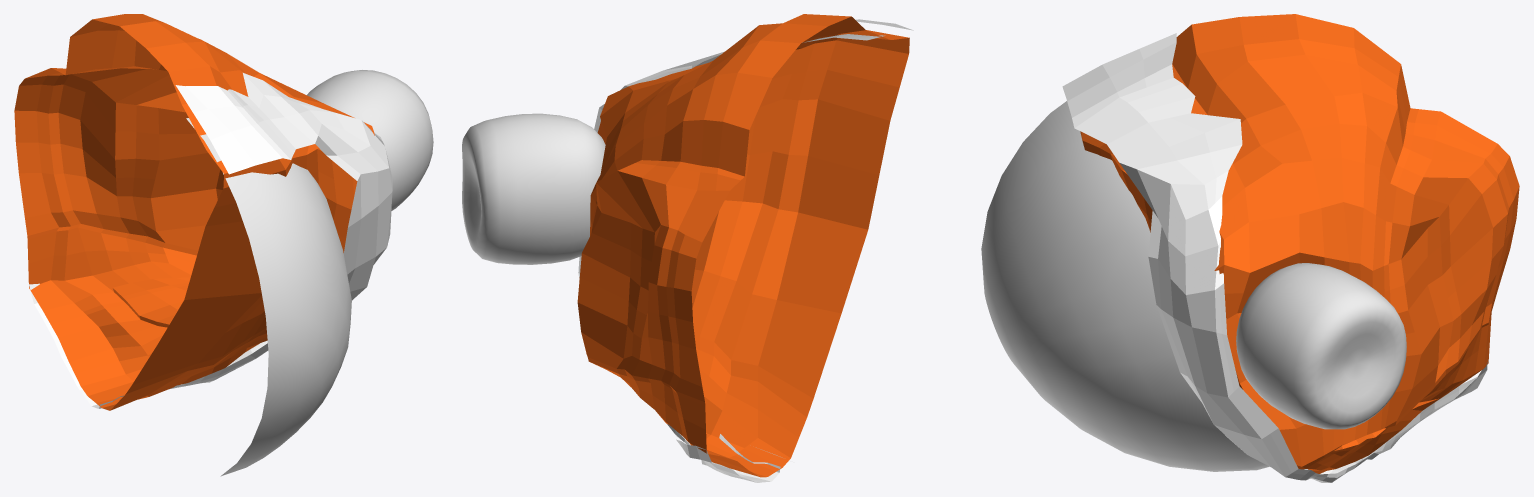
File: Robot.gltf
The picture shows the model from 3 angles, left to right: view 1: azimuth 30°, elevation 25°; view 2: azimuth 150°, elevation 25°; view 3: azimuth 270°, elevation 25°; orthographic projection. The views are drawn at different scales.
Visible parts, largest first — view 1: body, Sphere.001, body ac, Sphere; view 2: body, Sphere, body ac; view 3: body, Sphere.001, body ac, Sphere.
Boxes of the visible parts, x1=… form: body: x1=14, y1=14, x2=374, y2=410; Sphere.001: x1=186, y1=118, x2=351, y2=476; body ac: x1=29, y1=73, x2=392, y2=408; Sphere: x1=307, y1=70, x2=433, y2=210; body: x1=577, y1=14, x2=909, y2=477; Sphere: x1=462, y1=113, x2=605, y2=264; body ac: x1=578, y1=19, x2=913, y2=482; body: x1=1080, y1=14, x2=1519, y2=473; Sphere.001: x1=981, y1=101, x2=1269, y2=471; body ac: x1=1062, y1=33, x2=1488, y2=482; Sphere: x1=1236, y1=263, x2=1406, y2=429.
Bounding box in the file's own units: 3.22 × 4.04 × 4.44.
